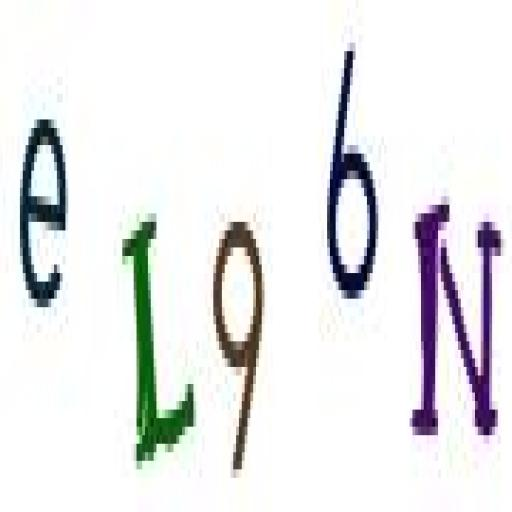6: (324, 25, 383, 338)
9: (209, 213, 269, 495)
L: (119, 196, 202, 480)
N: (404, 178, 508, 465)
e: (16, 100, 72, 336)
